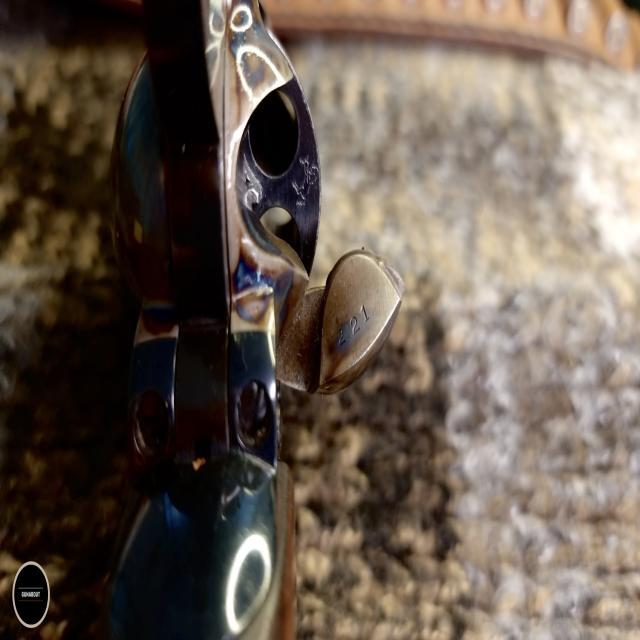revolver: (89, 2, 399, 640)
